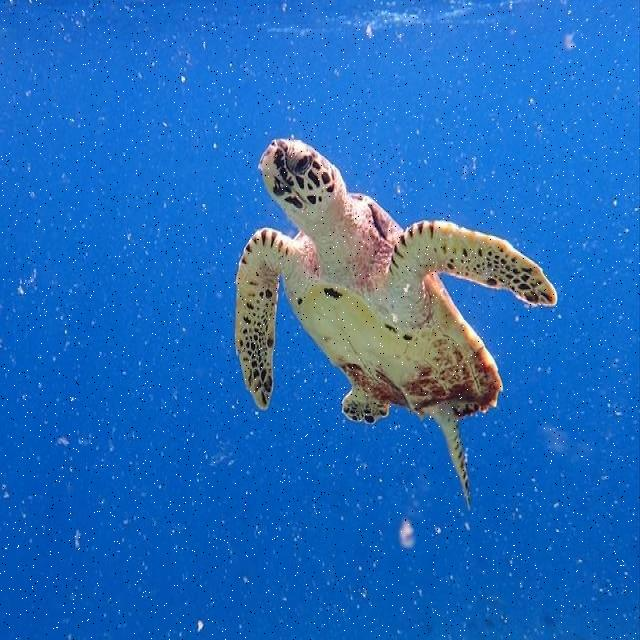reefs: (234, 140, 557, 504)
